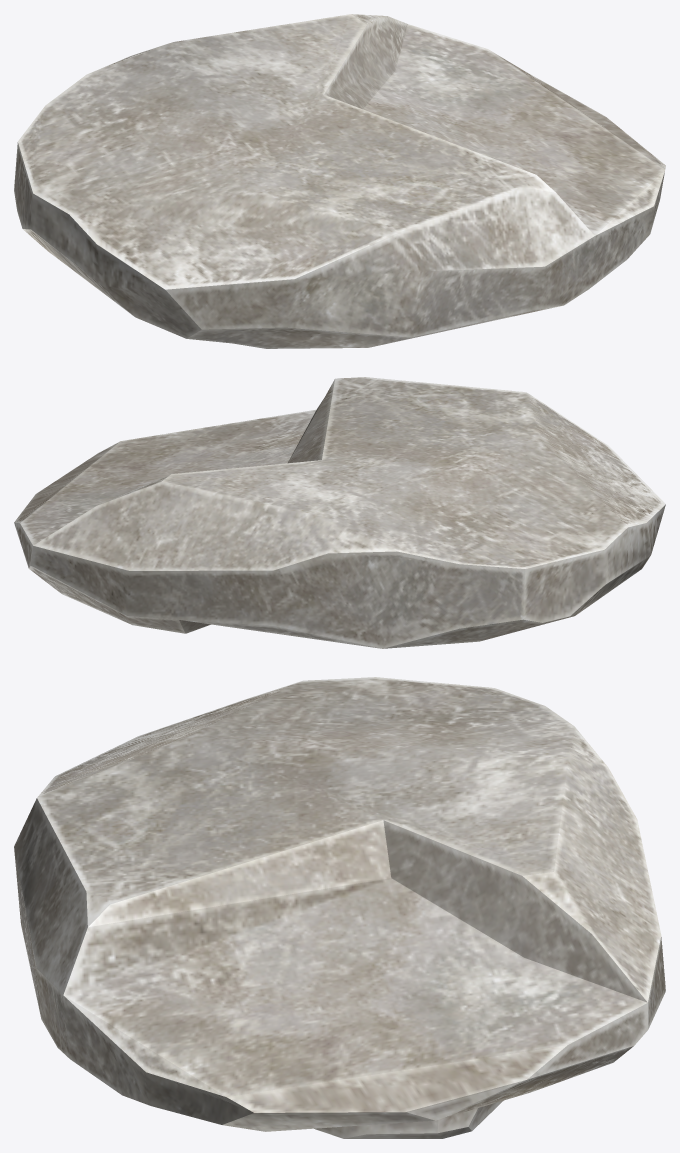
File: pathway_rock_1.glb
The picture shows the model from 3 angles, top to bottom: view 1: azimuth 30°, elevation 25°; view 2: azimuth 150°, elevation 25°; view 3: azimuth 270°, elevation 25°; orthographic projection. The views are drawn at different scales.
Parts seen in each view (by area): view 1: pathway_rock_7; view 2: pathway_rock_7; view 3: pathway_rock_7.
Part boxes in pixels (x1,y1,x2,y2): pathway_rock_7: (14, 14, 665, 348); pathway_rock_7: (14, 377, 665, 648); pathway_rock_7: (14, 677, 665, 1138).
Bounding box in the file's own units: 1.17 × 0.307 × 0.9335.
1 material, 1 textured.
